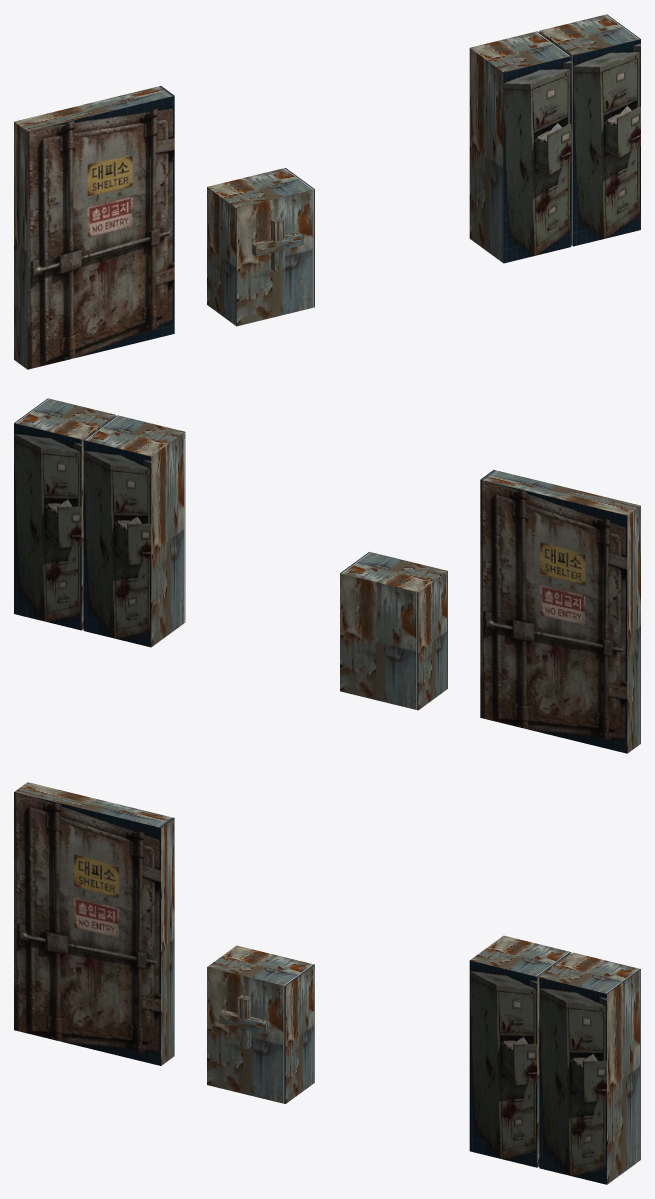
Rendered from sf_bunker_props_pack.glb.
3 renders of one model, top to bottom at view 1: azimuth 30°, elevation 25°; view 2: azimuth 150°, elevation 25°; view 3: azimuth 330°, elevation 25°, orthographic.
Visible parts, largest first — view 1: UndergroundBunkerEquipmentPack_Root, UndergroundBunkerEquipmentPack_AnimPart; view 2: UndergroundBunkerEquipmentPack_Root; view 3: UndergroundBunkerEquipmentPack_Root, UndergroundBunkerEquipmentPack_AnimPart.
Part boxes in pixels (x1=…): UndergroundBunkerEquipmentPack_Root: x1=14, y1=14, x2=640, y2=369; UndergroundBunkerEquipmentPack_AnimPart: x1=252, y1=217, x2=303, y2=271; UndergroundBunkerEquipmentPack_Root: x1=14, y1=398, x2=640, y2=753; UndergroundBunkerEquipmentPack_Root: x1=14, y1=782, x2=640, y2=1184; UndergroundBunkerEquipmentPack_AnimPart: x1=219, y1=995, x2=269, y2=1049.
Bounding box in the file's own units: 6.15 × 2.32 × 0.63.
Materials: 1 (1 with a texture image).
